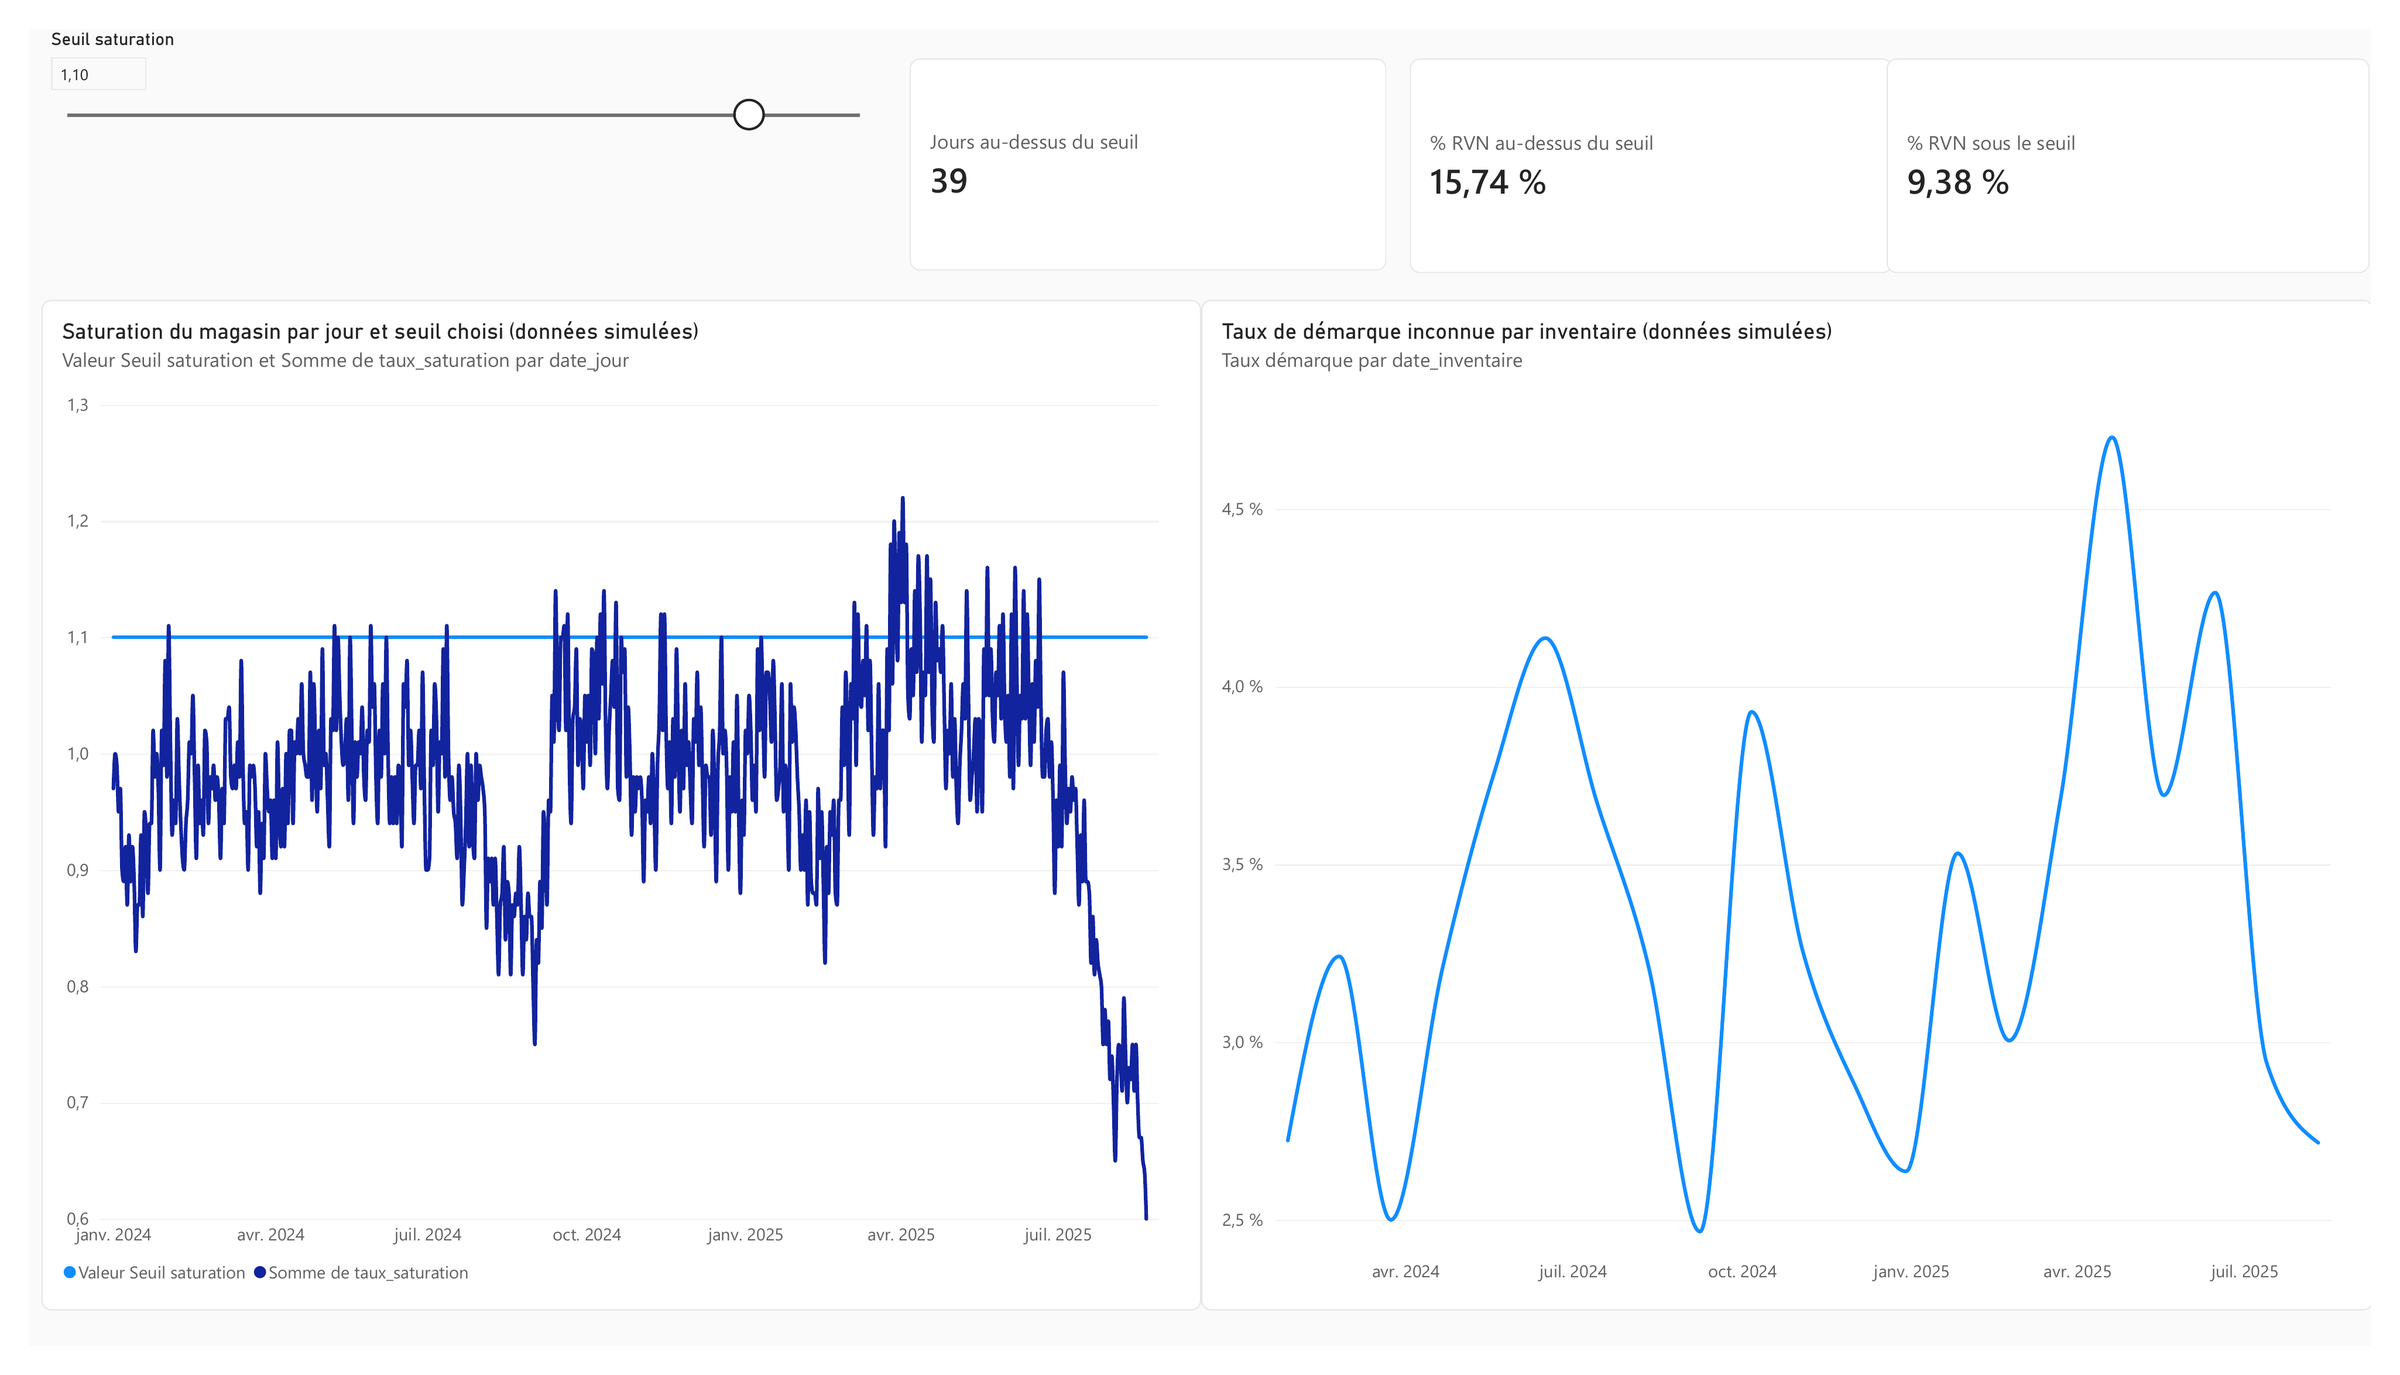

This screenshot's page, from the dashboard's own definition file:
{"tool":"powerbi","page":{"name":"Saturation et démarque","canvas":[1920,1080],"ordinal":2},"visuals":[{"type":"slicer","fields":{"Values":["Seuil saturation.Seuil saturation"]},"box":[9.5,0,689,221.7],"z":0},{"type":"cardVisual","fields":{"Data":["_Mesures.Jours au-dessus du seuil"]},"box":[722.4,23.8,391,174],"z":1},{"type":"cardVisual","fields":{"Data":["_Mesures.% RVN au-dessus du seuil"]},"box":[1132.5,23.8,395.8,176.4],"z":2},{"type":"cardVisual","fields":{"Data":["_Mesures.% RVN sous le seuil"]},"box":[1523.4,23.8,395.8,176.4],"z":3},{"type":"lineChart","title":"Saturation du magasin par jour et seuil choisi (données simulées)","fields":{"Category":["public magasin_jour.date_jour"],"Y":["Seuil saturation.Valeur Seuil saturation","Sum(public magasin_jour.taux_saturation)"]},"box":[9.5,221.7,951.3,829.7],"z":4},{"type":"lineChart","title":"Taux de démarque inconnue par inventaire (données simulées)","fields":{"Category":["public inventaires.date_inventaire"],"Y":["_Mesures.Taux démarque"]},"box":[960.8,221.7,960.8,829.7],"z":5}]}

Visuals, with their boxes in screenshot pixels (x1, y1, x2, y2), scaled from the page's 1920x1080 canvas onto the 2400x1375 screenshot:
slicer - Seuil saturation.Seuil saturation: bbox(12, 0, 873, 282)
cardVisual - _Mesures.Jours au-dessus du seuil: bbox(903, 30, 1392, 252)
cardVisual - _Mesures.% RVN au-dessus du seuil: bbox(1416, 30, 1910, 255)
cardVisual - _Mesures.% RVN sous le seuil: bbox(1904, 30, 2399, 255)
"Saturation du magasin par jour et seuil choisi (données simulées)" lineChart: bbox(12, 282, 1201, 1339)
"Taux de démarque inconnue par inventaire (données simulées)" lineChart: bbox(1201, 282, 2399, 1339)
